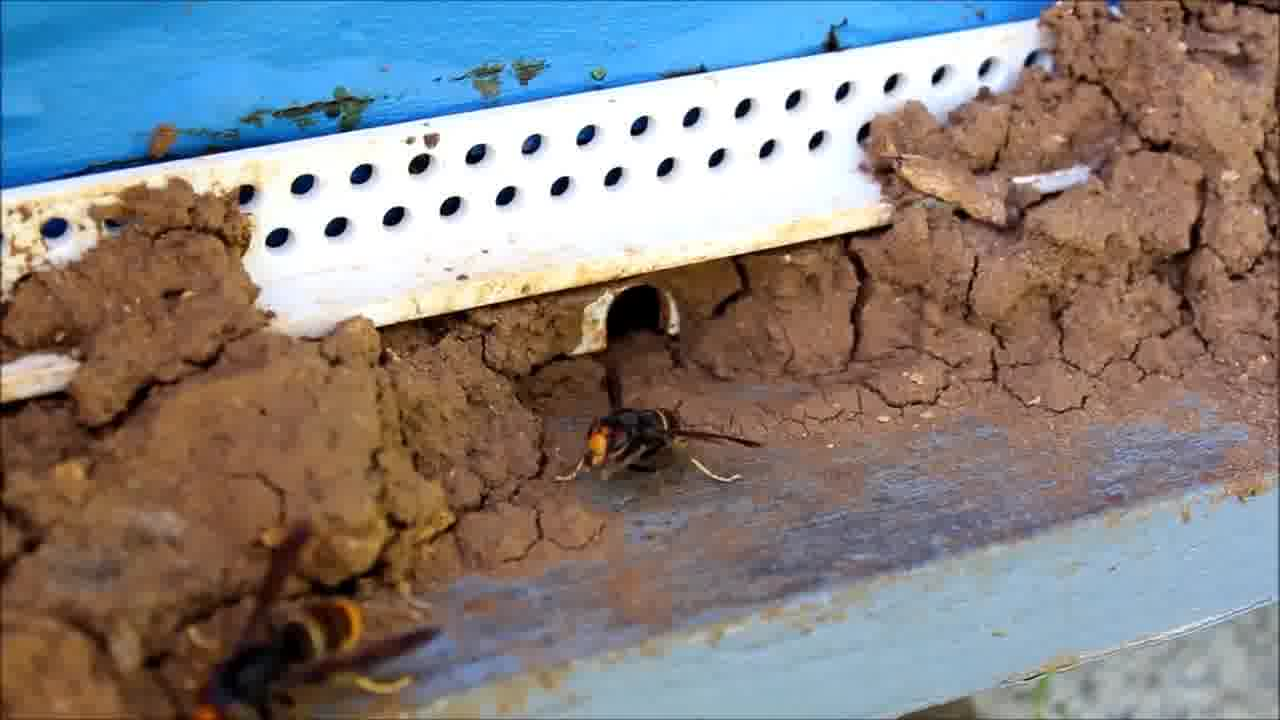hornet: (181, 568, 432, 710), (571, 371, 730, 491)
